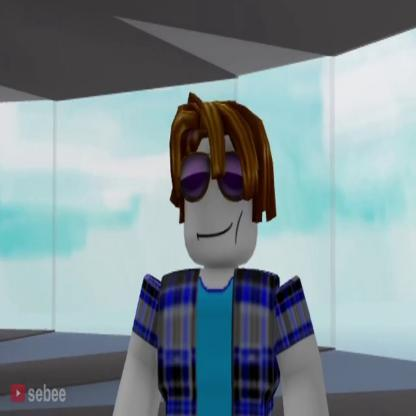Roblox-Avatar: (113, 92, 331, 416)
